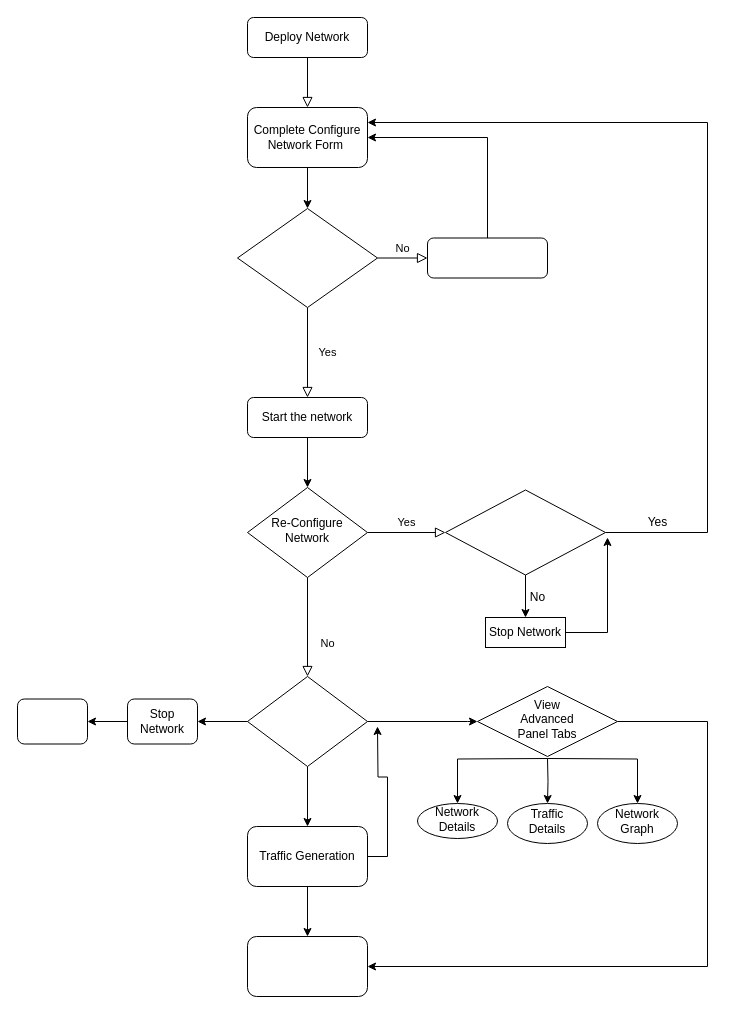
Image size: 733x1014. Some labels were removed from this diagram. The box of each missing label's shape, as (x1, y1, x2, y2) in pixels:
Choose an option: (246, 676, 368, 766)
Delete Network: (16, 698, 88, 744)
End / Go Monitoring Page: (246, 936, 368, 996)
Is the Monitoring Engine Started?: (236, 208, 378, 308)
Is the network stopped?: (444, 489, 606, 575)
Start Monitoring Engine: (426, 237, 548, 278)
